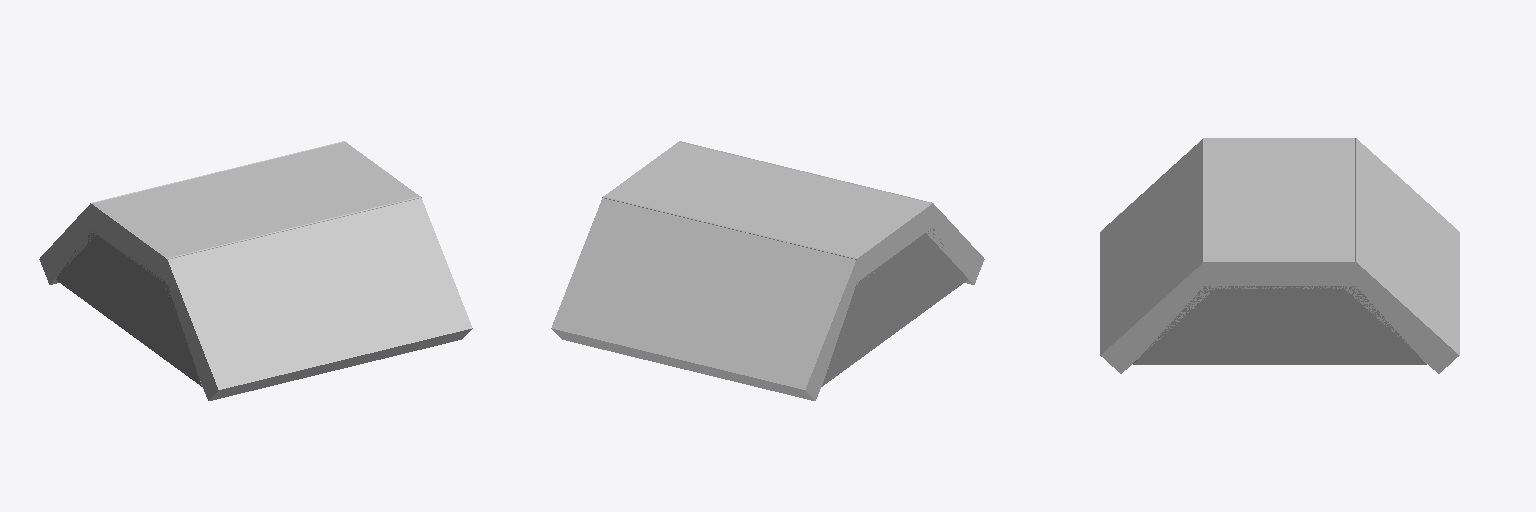
The model's file is houseRoof.obj.
3 renders of one model, left to right at view 1: azimuth 30°, elevation 25°; view 2: azimuth 150°, elevation 25°; view 3: azimuth 270°, elevation 25°, orthographic.
Visible parts, largest first — view 1: Roof45_2_Cube.008, Ceiling_Cube.006, RoofSide2_Cube.011, Roof45_1_Cube.009; view 2: Roof45_1_Cube.009, Ceiling_Cube.006, RoofSide2_Cube.011, Roof45_2_Cube.008; view 3: Ceiling_Cube.006, RoofSide1_Cube.010, Roof45_2_Cube.008, Roof45_1_Cube.009.
Part boxes in pixels (bbox=[...]): Roof45_2_Cube.008: bbox=[159, 196, 472, 400]; Ceiling_Cube.006: bbox=[90, 142, 421, 283]; RoofSide2_Cube.011: bbox=[56, 231, 201, 386]; Roof45_1_Cube.009: bbox=[39, 141, 344, 284]; Roof45_1_Cube.009: bbox=[551, 196, 856, 400]; Ceiling_Cube.006: bbox=[602, 142, 931, 284]; RoofSide2_Cube.011: bbox=[822, 228, 967, 386]; Roof45_2_Cube.008: bbox=[679, 141, 984, 284]; Ceiling_Cube.006: bbox=[1203, 138, 1356, 288]; RoofSide1_Cube.010: bbox=[1133, 286, 1426, 364]; Roof45_2_Cube.008: bbox=[1100, 138, 1224, 373]; Roof45_1_Cube.009: bbox=[1335, 138, 1459, 373].
Size of the model in its own units: 20 by 8.49 by 24.49.